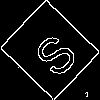S: (25, 25, 81, 80)
